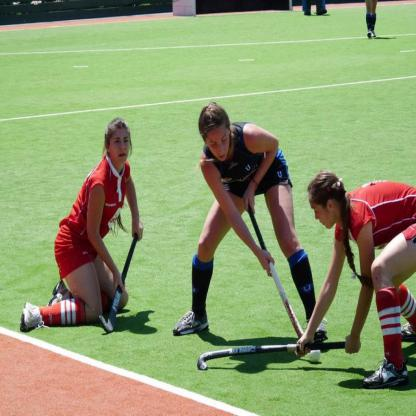face: (308, 199, 337, 230), (207, 129, 231, 161), (111, 129, 131, 164)
